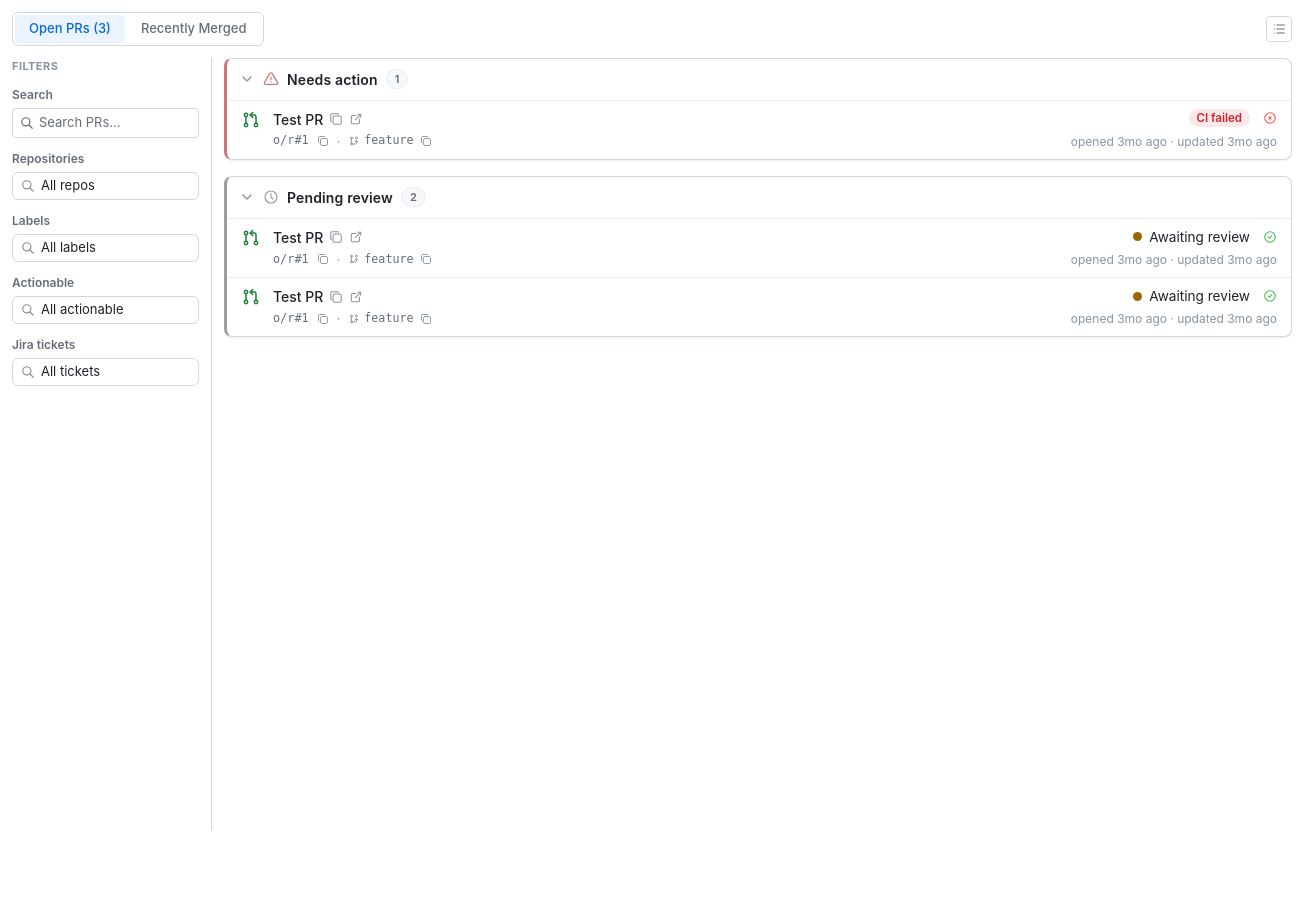
it: PRsView sidebar filters › 'Actionable' filter matches ANY selected reason (OR), folding in CI failed
Expected: the button "Open PRs (3)" is shown, [15,15,125,42]
Click the dropdown "All actionable". click: click(106, 310)
box: [12,296,199,324]
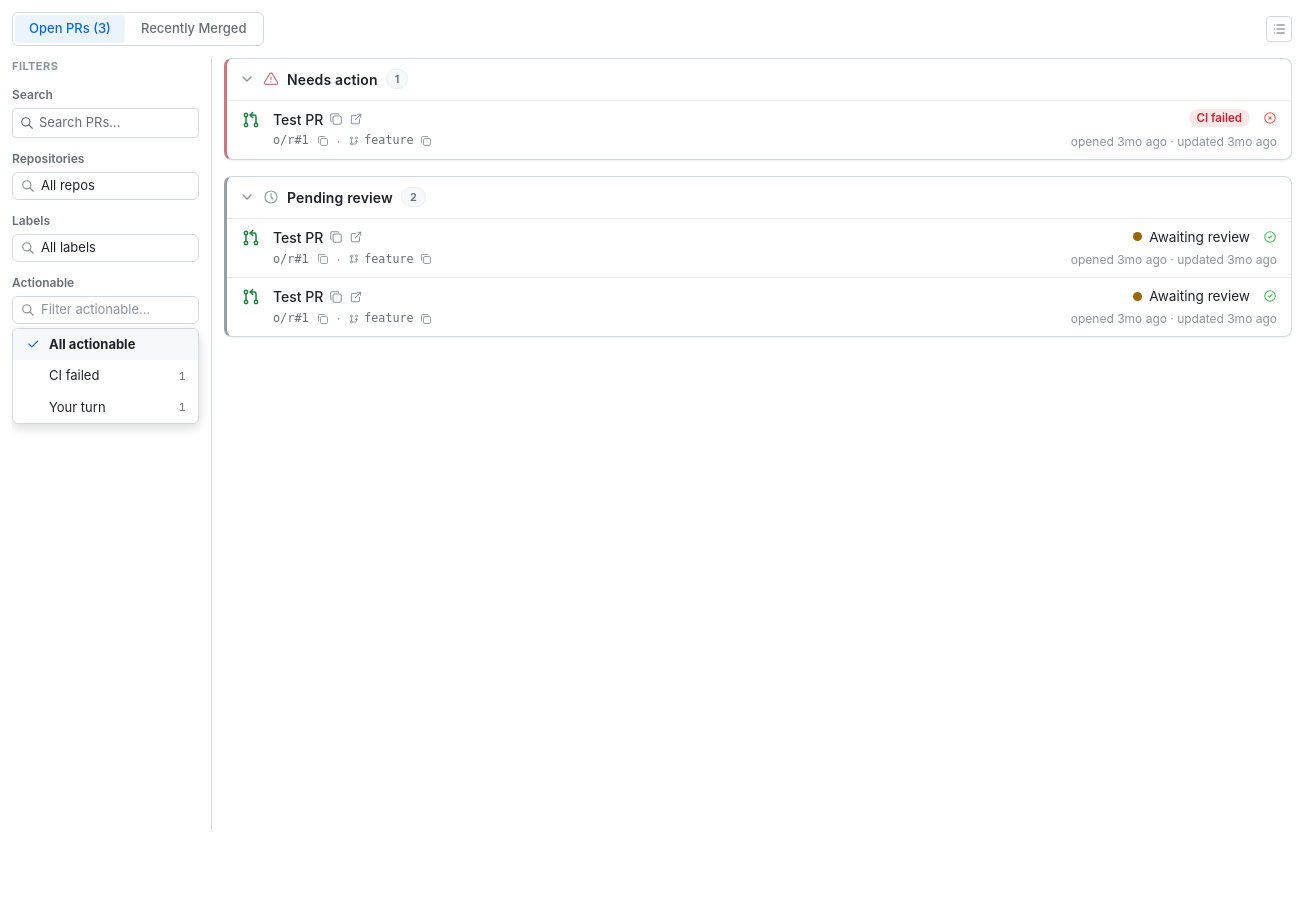
Press the mouse on the text "CI failed" at (74, 375), box [49,367,186,383]
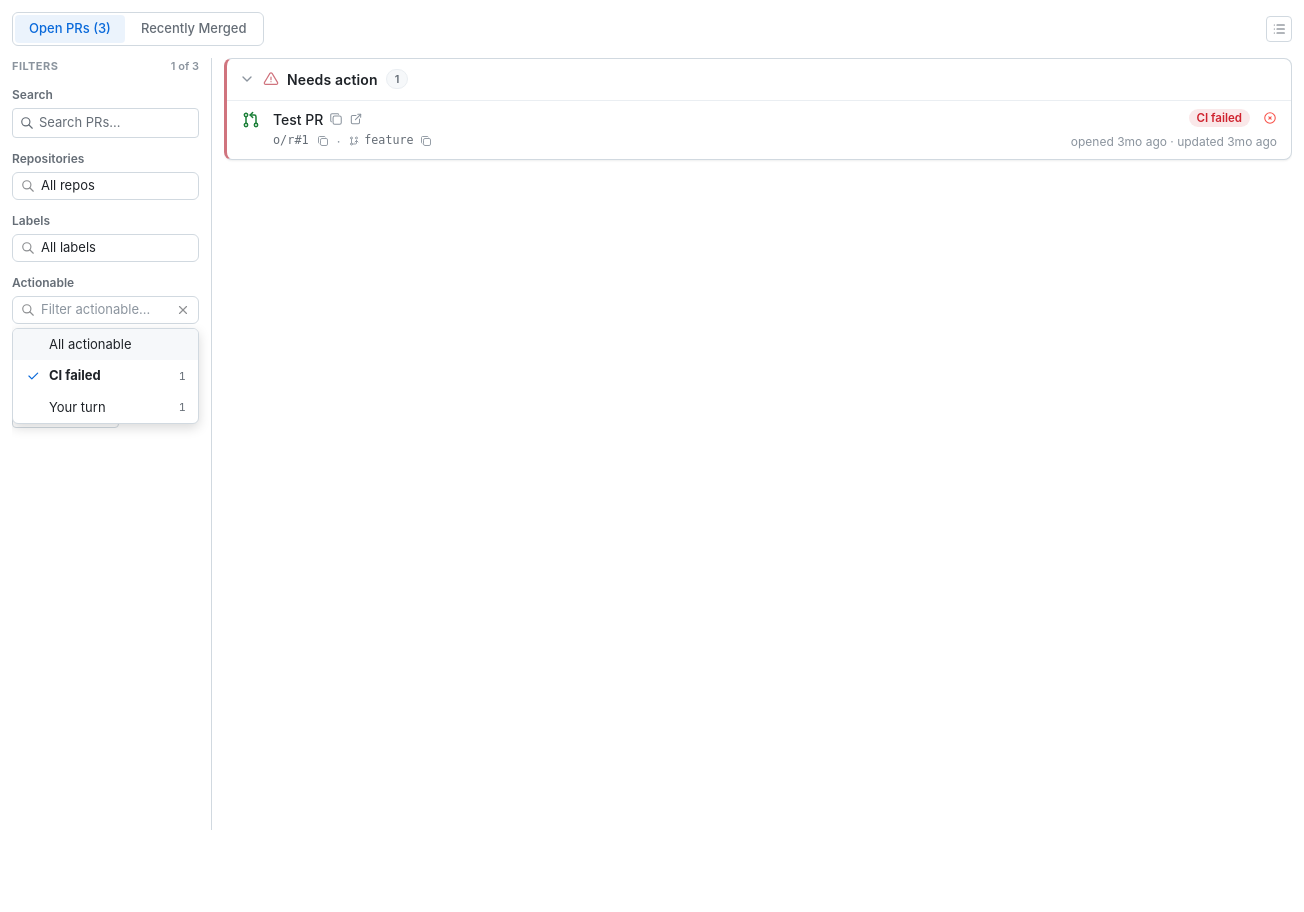
Expected: the text "1 of 3" is shown, [171,58,199,74]
Press the mouse on the text "Your turn" at (77, 406), box [49,398,186,414]
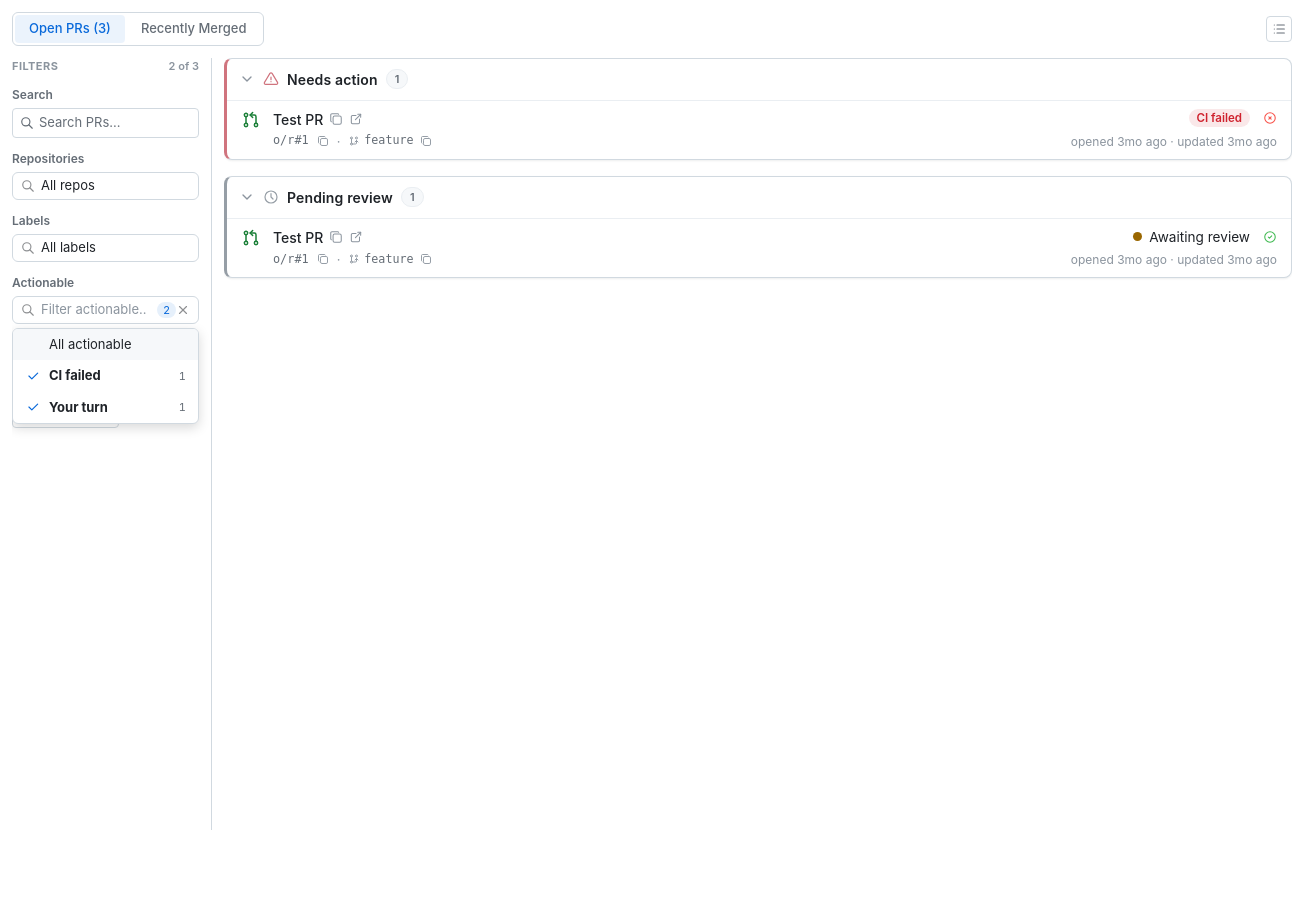
Expected: the text "2 of 3" is shown, [169,58,199,74]
